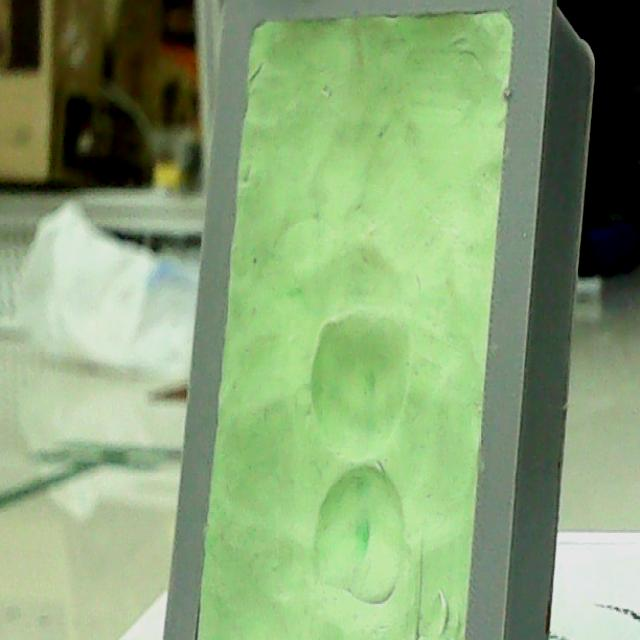block: (150, 0, 606, 640)
